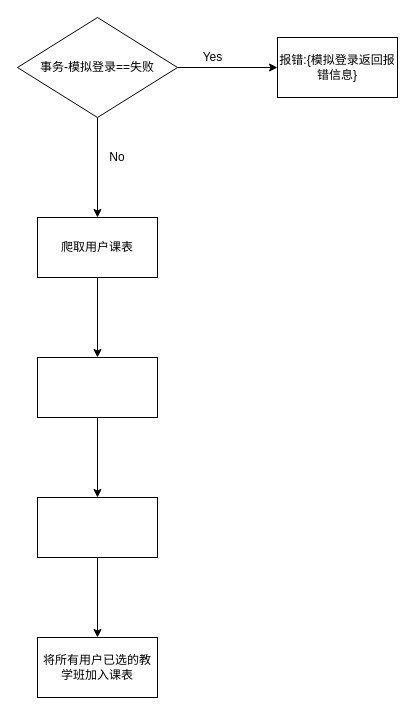
Image size: 415x715. Some labels were removed from this diagram. The shapes that lost their labels are listed below. From the top down, each one's box as (x1, y1, x2, y2) in pixels, then its label:
(36, 356, 158, 418): 清空用户当前所有课表上的课
(36, 496, 158, 558): 将所有用户已选的教学班加入教学班仓库
